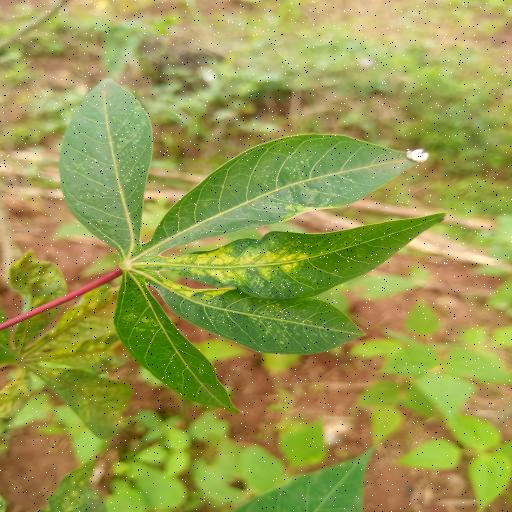Cassava_Mosaic: (51, 68, 437, 424)
